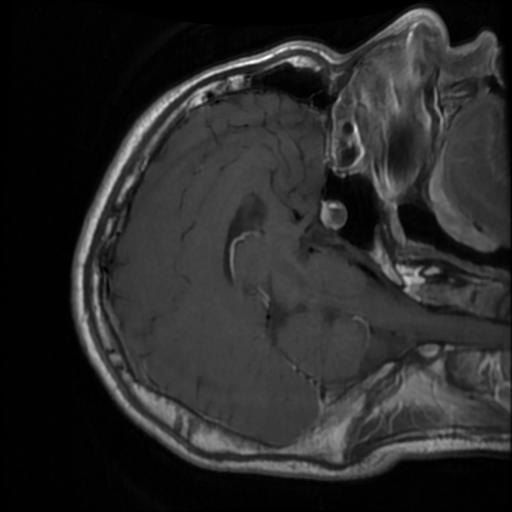pituitary tumour: (320, 200, 348, 230)
